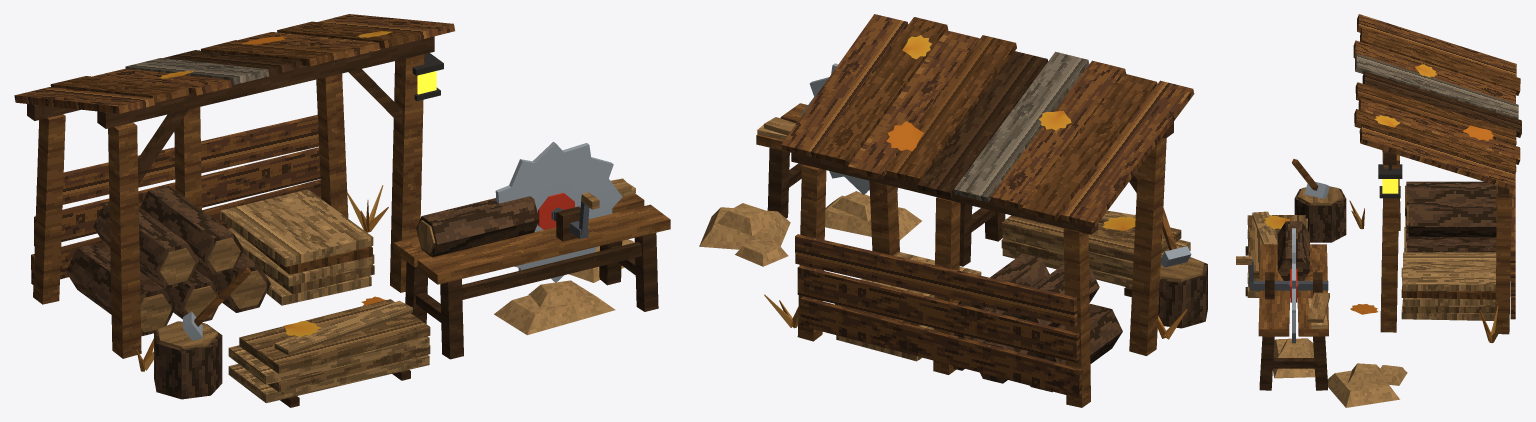
Rendered from sawmill.glb.
3 views of the same model, side by side, from view 1: azimuth 30°, elevation 25°; view 2: azimuth 150°, elevation 25°; view 3: azimuth 270°, elevation 25° (orthographic). The views are drawn at different scales.
Parts seen in each view (by area): view 1: sawmill, spinY_blade; view 2: sawmill, spinY_blade; view 3: sawmill, spinY_blade.
Part boxes in pixels (x1,y1,x2,y2): sawmill: (14, 14, 670, 407); spinY_blade: (495, 142, 622, 282); sawmill: (699, 14, 1207, 407); spinY_blade: (801, 63, 897, 194); sawmill: (1236, 14, 1521, 407); spinY_blade: (1288, 228, 1298, 343).
Bounding box in the file's own units: 5.63 × 2.83 × 3.56.
25 materials, 16 textured.
